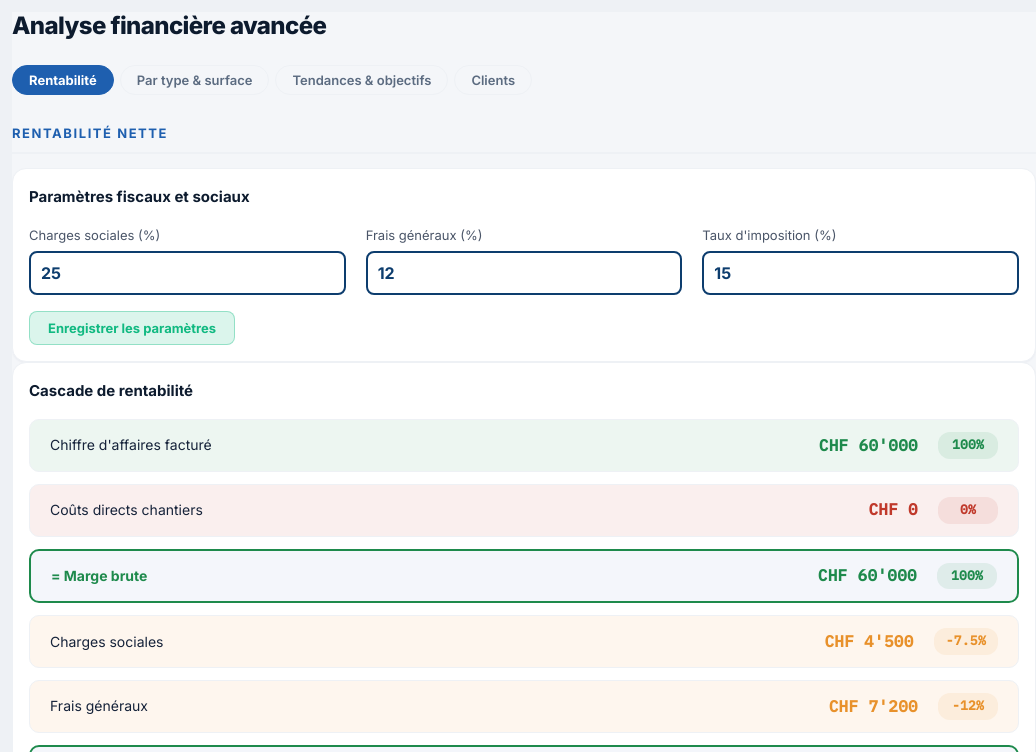
Test: PROJECTIONS — CA annuel + scénarios de marge › affiche la projection annuelle et les 3 scénarios
Click the button "Tendances & objectifs": (362, 80) [275, 65, 448, 95]
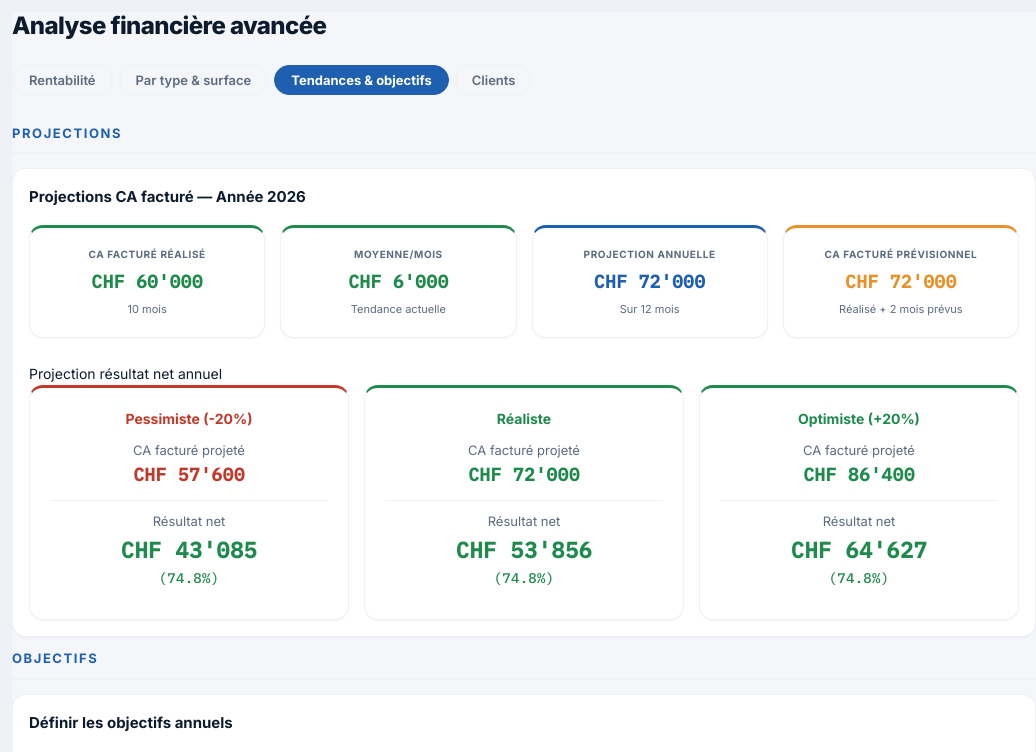
Now the text "Projection annuelle" is shown, box [584, 248, 716, 260]
Now the text "Projection résultat net annuel" is shown, box [29, 365, 222, 382]
Now the text "Pessimiste (-20%)" is shown, box [125, 410, 252, 427]
